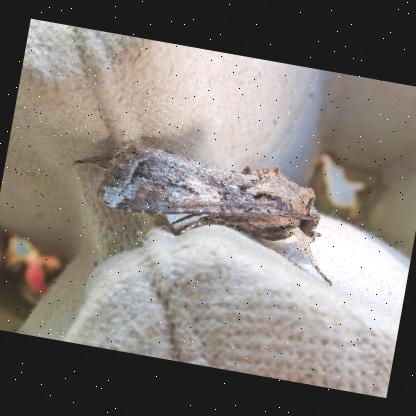Fall Armyworm Moth: (54, 126, 354, 289)
